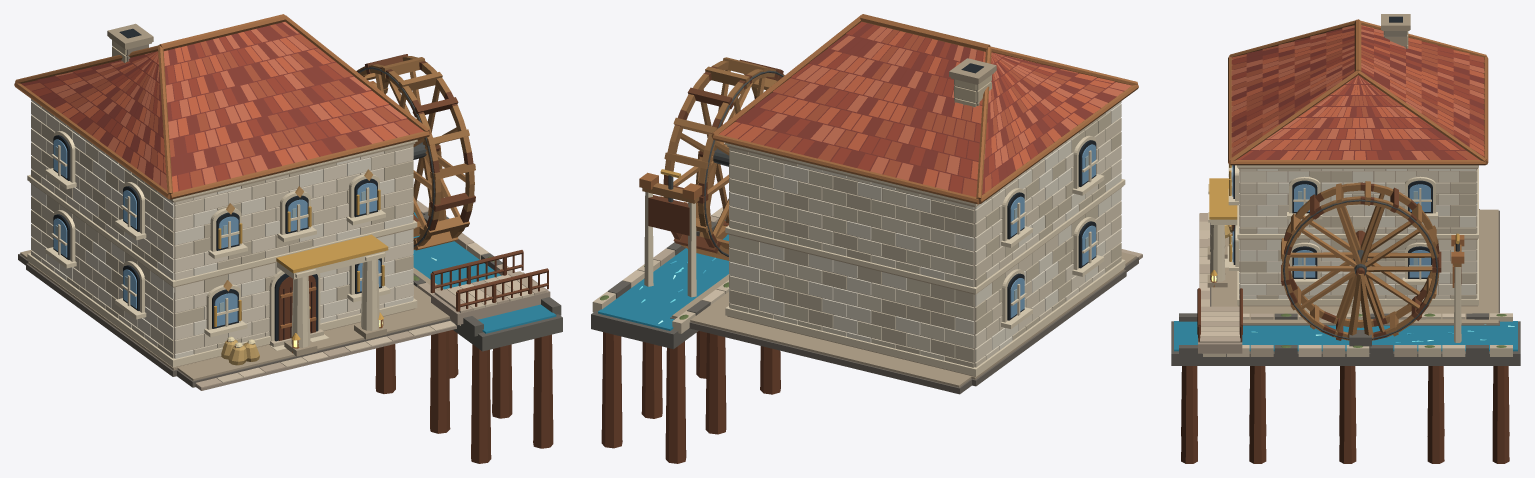
Rendered from watermill-nivel-5.glb.
3 renders of one model, left to right at view 1: azimuth 30°, elevation 25°; view 2: azimuth 150°, elevation 25°; view 3: azimuth 270°, elevation 25°, orthographic. The views are drawn at different scales.
Parts seen in each view (by area): view 1: Moinho 05 #e6d7ba, Moinho 05 #853e33, Moinho 05 #e8dcc5, Moinho 05 #70432c, Moinho 05 #ded1b9, Moinho 05 #eae1ce, Moinho 05 #cec1a8, Moinho 05 #c06b4f, Moinho 05 #a76e42, Moinho 05 #a8563c, Moinho 05 #bf6243, Aros e pás 1 #9f7145.004 (+16 smaller); view 2: Moinho 05 #ded1b9, Moinho 05 #cec1a8, Moinho 05 #853e33, Moinho 05 #e8dcc5, Moinho 05 #eae1ce, Moinho 05 #e6d7ba, Moinho 05 #70432c, Moinho 05 #a76e42, Moinho 05 #b4a38a, Moinho 05 #bf6243, Moinho 05 #9b4735, Moinho 05 #a8563c (+13 smaller); view 3: Moinho 05 #853e33, Aros e pás 1 #9f7145.004, Moinho 05 #70432c, Moinho 05 #e6d7ba, Moinho 05 #b4a38a, Moinho 05 #9b4735, Moinho 05 #a8563c, Moinho 05 #bf6243, Moinho 05 #a76e42, Moinho 05 #c06b4f, Moinho 05 #6a665e, Moinho 05 #256477 (+16 smaller).
Boxes of the visible parts, bbox=[...] form: Moinho 05 #e6d7ba: bbox=[27, 131, 417, 367]; Moinho 05 #853e33: bbox=[21, 22, 409, 191]; Moinho 05 #e8dcc5: bbox=[31, 101, 413, 347]; Moinho 05 #70432c: bbox=[227, 144, 553, 463]; Moinho 05 #ded1b9: bbox=[31, 115, 413, 354]; Moinho 05 #eae1ce: bbox=[31, 99, 413, 358]; Moinho 05 #cec1a8: bbox=[31, 106, 413, 358]; Moinho 05 #c06b4f: bbox=[50, 22, 408, 190]; Moinho 05 #a76e42: bbox=[14, 14, 430, 353]; Moinho 05 #a8563c: bbox=[24, 24, 423, 187]; Moinho 05 #bf6243: bbox=[54, 32, 395, 192]; Aros e pás 1 #9f7145.004: bbox=[356, 56, 475, 250]; Moinho 05 #ded1b9: bbox=[729, 117, 1121, 367]; Moinho 05 #cec1a8: bbox=[729, 111, 1121, 367]; Moinho 05 #853e33: bbox=[724, 23, 1124, 194]; Moinho 05 #e8dcc5: bbox=[729, 132, 1121, 361]; Moinho 05 #eae1ce: bbox=[729, 101, 1121, 350]; Moinho 05 #e6d7ba: bbox=[644, 135, 1125, 376]; Moinho 05 #70432c: bbox=[601, 151, 780, 463]; Moinho 05 #a76e42: bbox=[639, 14, 1138, 204]; Moinho 05 #b4a38a: bbox=[672, 58, 1136, 387]; Moinho 05 #bf6243: bbox=[719, 31, 1114, 186]; Moinho 05 #9b4735: bbox=[749, 21, 1063, 193]; Moinho 05 #a8563c: bbox=[752, 29, 1104, 196]; Moinho 05 #853e33: bbox=[1231, 26, 1484, 159]; Aros e pás 1 #9f7145.004: bbox=[1281, 181, 1439, 340]; Moinho 05 #70432c: bbox=[1181, 225, 1509, 463]; Moinho 05 #e6d7ba: bbox=[1208, 164, 1478, 342]; Moinho 05 #b4a38a: bbox=[1207, 14, 1498, 324]; Moinho 05 #9b4735: bbox=[1231, 26, 1484, 159]; Moinho 05 #a8563c: bbox=[1231, 39, 1484, 159]; Moinho 05 #bf6243: bbox=[1231, 25, 1484, 159]; Moinho 05 #a76e42: bbox=[1210, 19, 1488, 287]; Moinho 05 #c06b4f: bbox=[1231, 25, 1484, 159]; Moinho 05 #6a665e: bbox=[1171, 313, 1520, 365]; Moinho 05 #256477: bbox=[1174, 321, 1517, 351].
Bounding box in the file's own units: 9.75 × 10.11 × 9.77.
